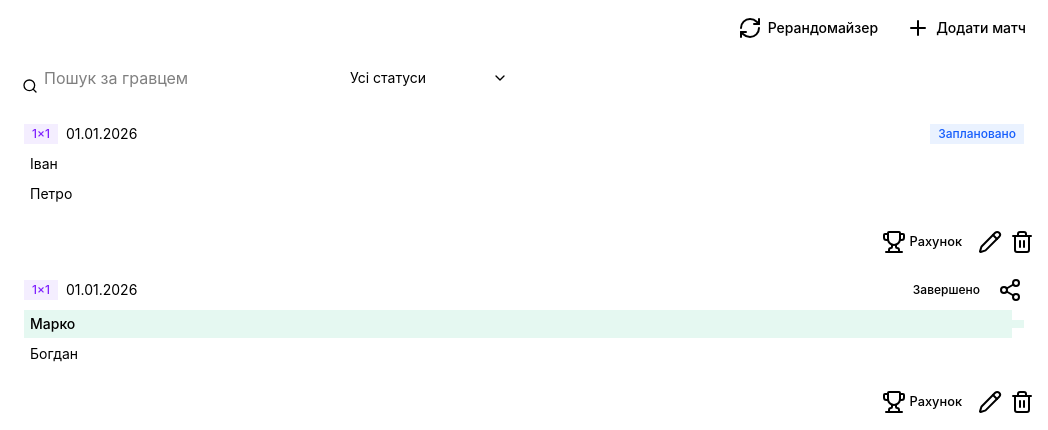
PadelTournamentMatches (filtering) › shows a distinct message when a filter matches nothing
The image size is (1048, 430).
Type "Немає такого" into the field with placeholder "Пошук за гравцем" at (172,78), box [12,60,332,96]
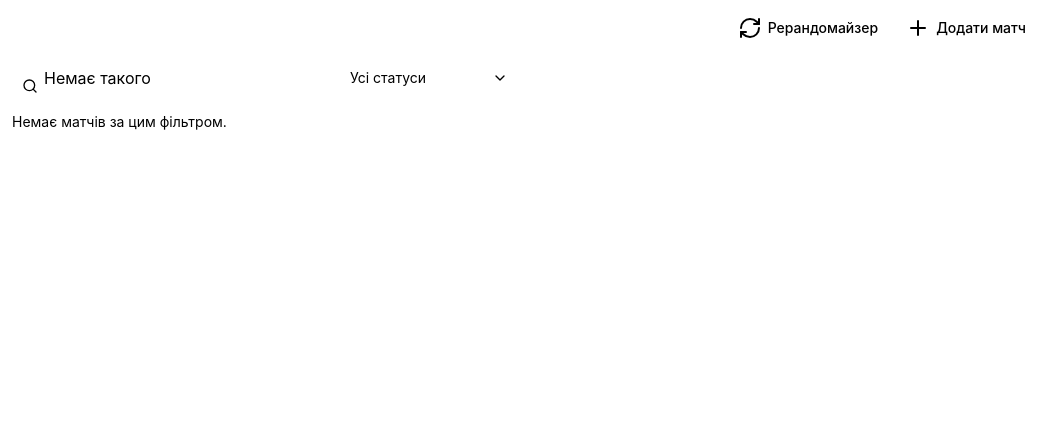
Now the text "Немає матчів за цим фільтром." is shown, box [12,113,227,130]
